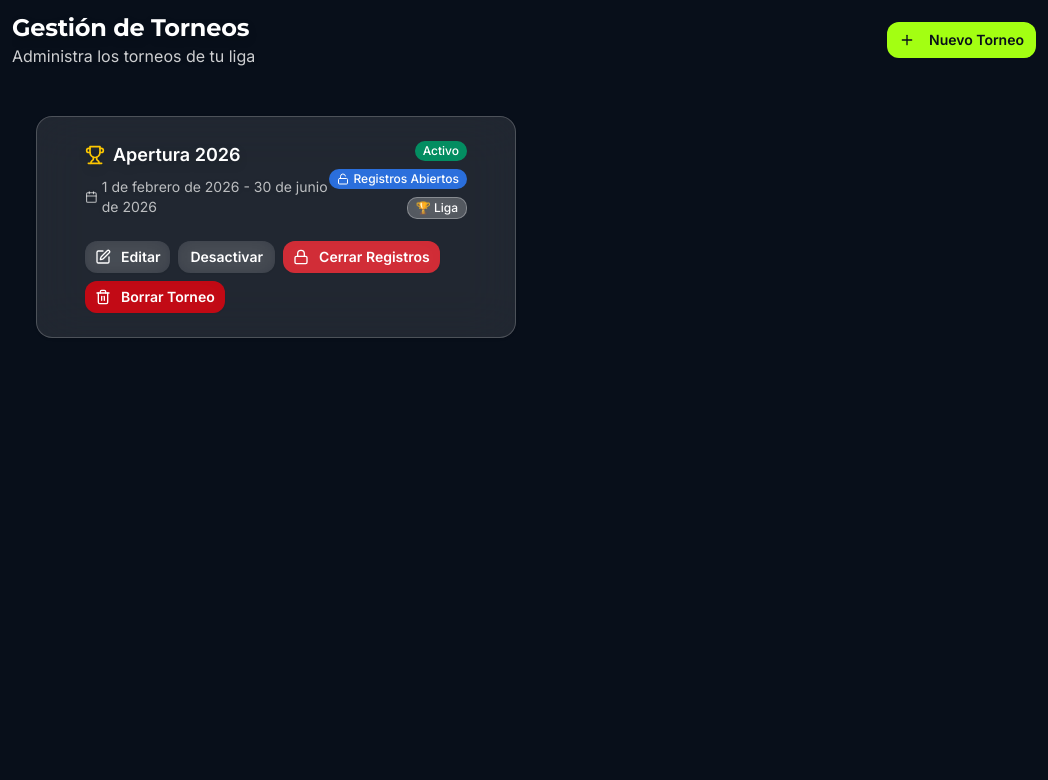
Test case: Tournaments page › deactivates a tournament and reports it
What coordinates should you click on to do the following:
click the button "Desactivar"
I would click on:
 (227, 257)
Its box is [178,241,275,273].
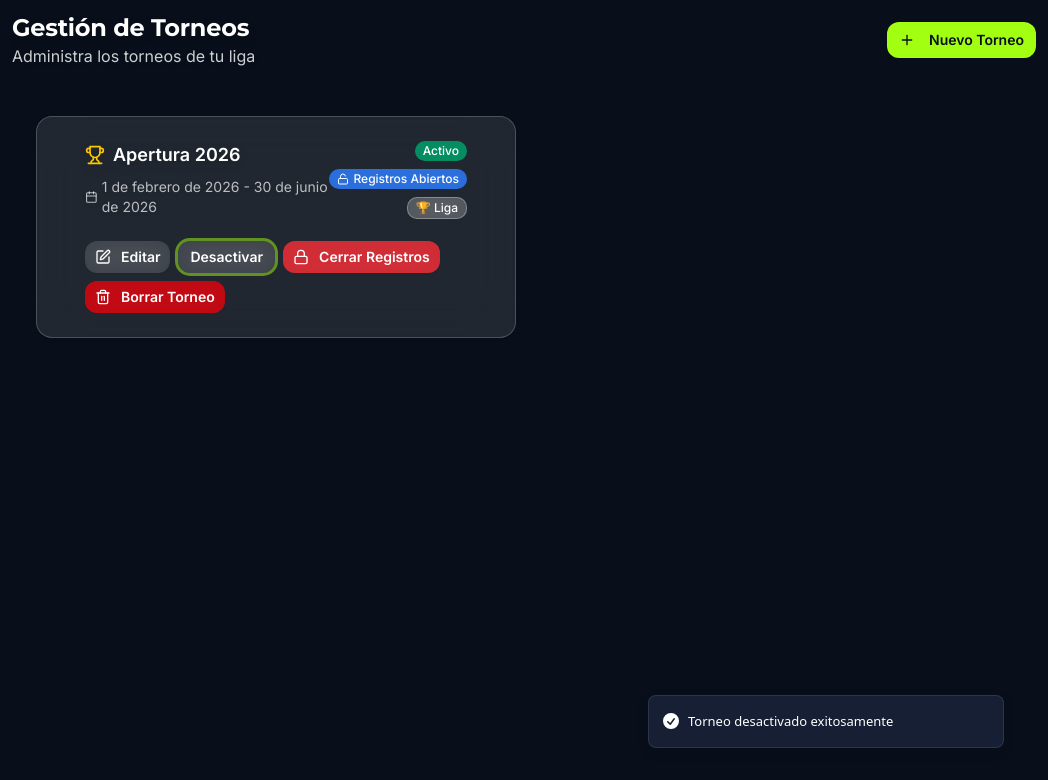
Expected: the text "Torneo desactivado exitosamente" is shown, [688,712,893,731]
